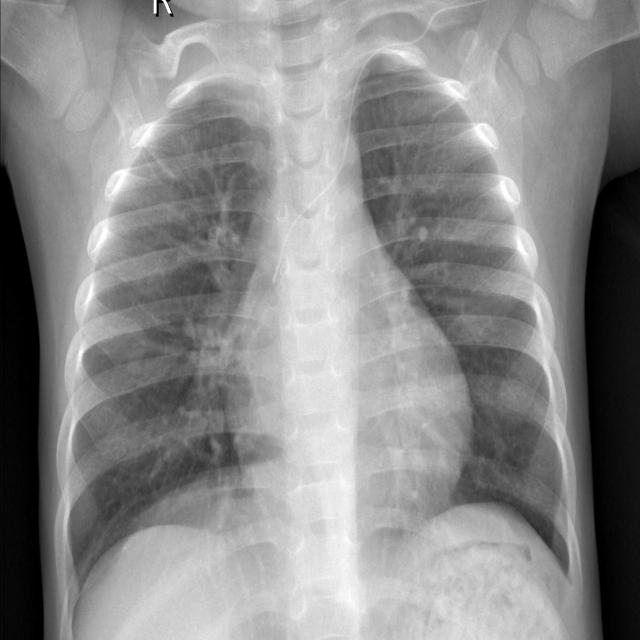no-pneumonia: (58, 77, 275, 599), (357, 55, 574, 572)
